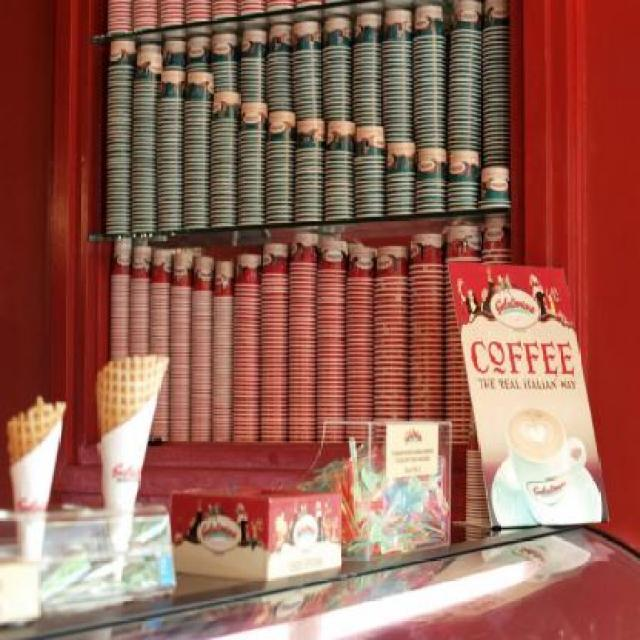Ice cream: (92, 348, 170, 578), (1, 384, 64, 542)
